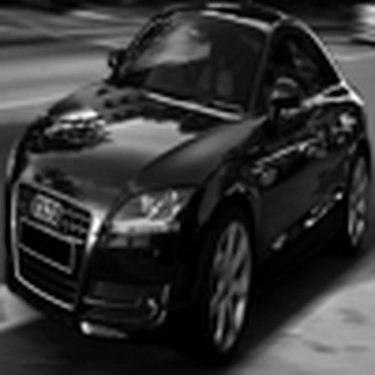car: (1, 10, 362, 343)
